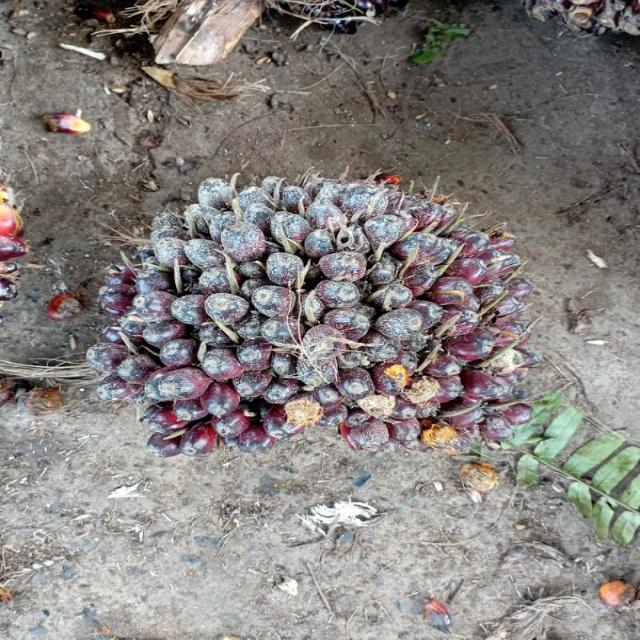fraksi 00: (85, 179, 532, 451)
